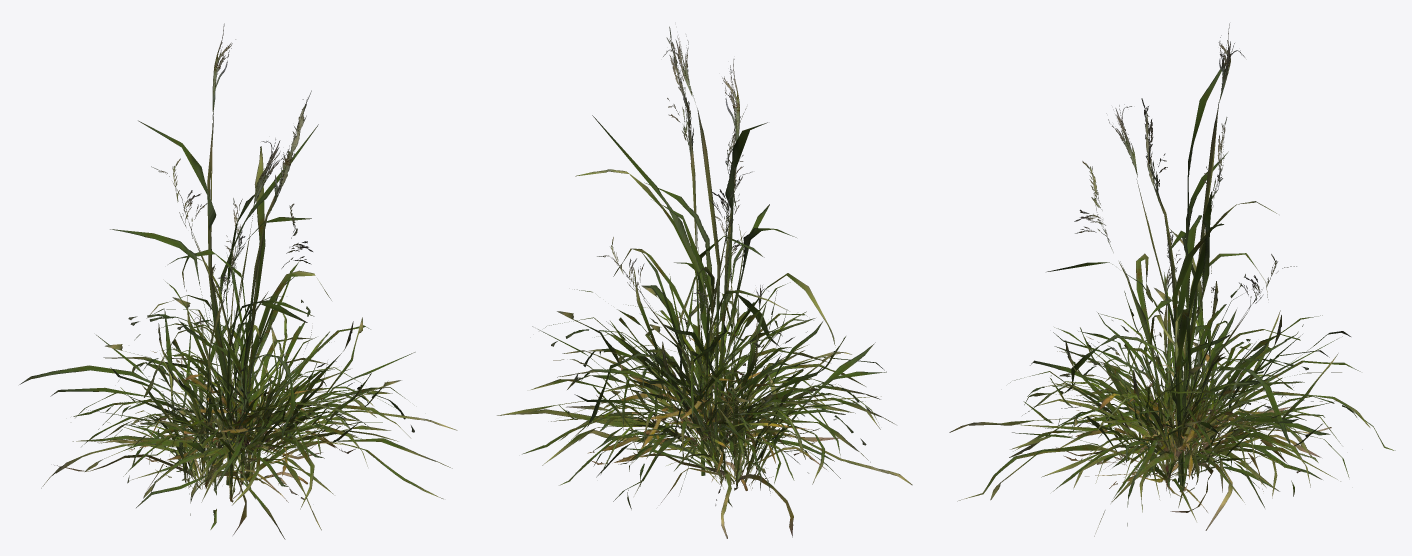
Rendered from grass.gltf.
3 renders of one model, left to right at view 1: azimuth 30°, elevation 25°; view 2: azimuth 150°, elevation 25°; view 3: azimuth 270°, elevation 25°, orthographic. The views are drawn at different scales.
Visible parts, largest first — view 1: grass_large_b, grass_mid_b, grass_tall_b, grass_tall_a, grass_small_b, grass_tiny_a; view 2: grass_large_b, grass_mid_b, grass_tall_a, grass_tall_b, grass_small_b; view 3: grass_large_b, grass_tall_b, grass_tall_a, grass_mid_b, grass_small_b.
Boxes of the visible parts, <box> form: grass_large_b: <box>19,255,457,530</box>; grass_mid_b: <box>54,243,335,539</box>; grass_tall_b: <box>144,90,331,484</box>; grass_tall_a: <box>110,23,318,485</box>; grass_small_b: <box>134,340,372,529</box>; grass_tiny_a: <box>199,310,294,502</box>; grass_large_b: <box>497,232,912,509</box>; grass_mid_b: <box>566,214,875,538</box>; grass_tall_a: <box>587,36,796,458</box>; grass_tall_b: <box>575,26,835,475</box>; grass_small_b: <box>593,301,845,505</box>; grass_large_b: <box>949,228,1395,536</box>; grass_tall_b: <box>1064,98,1276,492</box>; grass_tall_a: <box>1047,23,1296,482</box>; grass_mid_b: <box>1009,230,1331,530</box>; grass_small_b: <box>1022,332,1322,512</box>.
Size of the model in its own units: 0.2841 by 0.3225 by 0.2757.
Materials: 1 (1 with a texture image).
